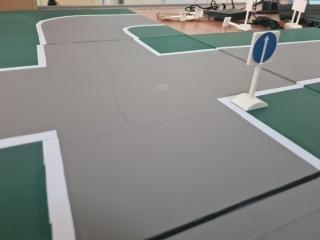straight: (247, 29, 279, 67)
